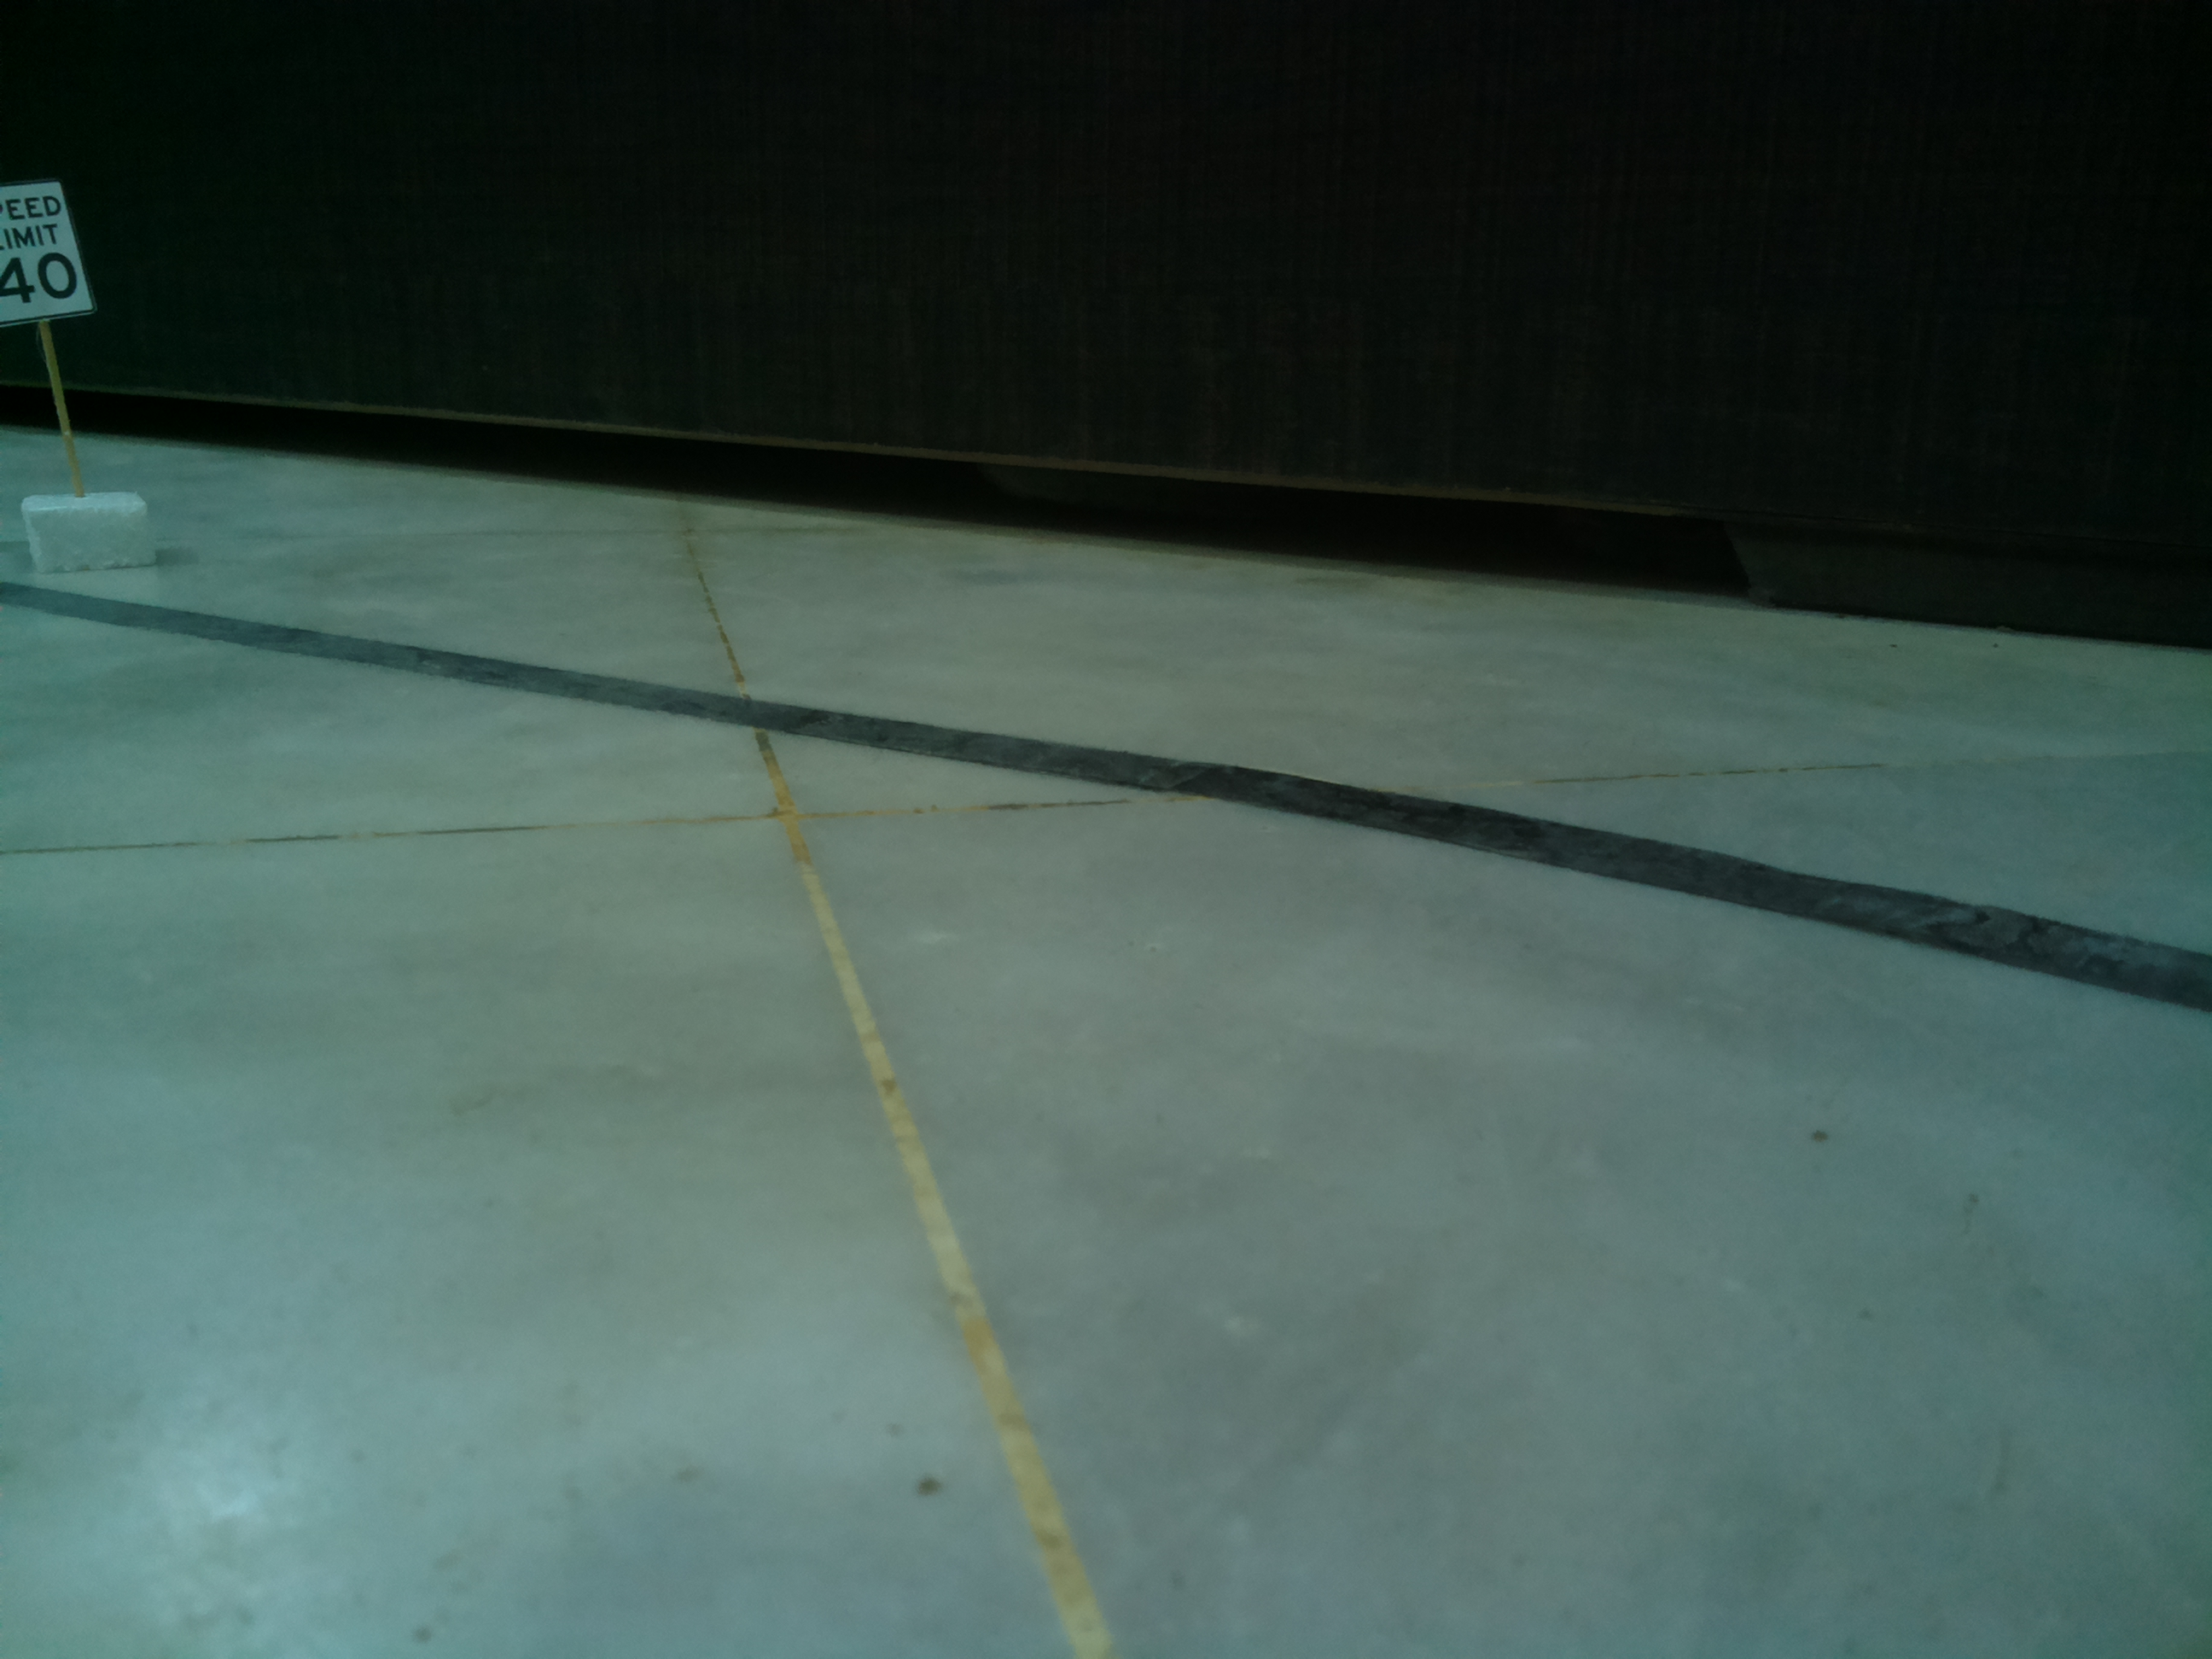Speed limit 40: (3, 174, 106, 324)
